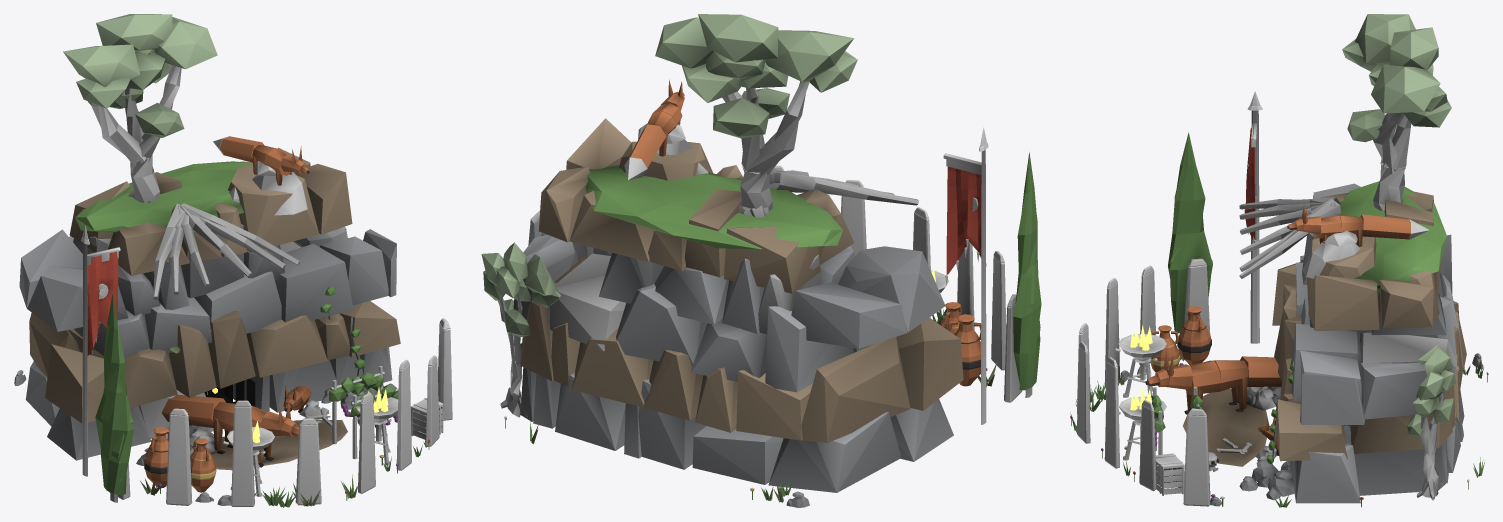
File: fox-den-l3.glb
3 views of the same model, side by side, from view 1: azimuth 30°, elevation 25°; view 2: azimuth 150°, elevation 25°; view 3: azimuth 270°, elevation 25° (orthographic). The views are drawn at different scales.
Parts seen in each view (by area): view 1: fox-den-l3; view 2: fox-den-l3; view 3: fox-den-l3.
Boxes of the visible parts, bbox=[...] form: fox-den-l3: bbox=[14, 14, 452, 507]; fox-den-l3: bbox=[481, 14, 1041, 507]; fox-den-l3: bbox=[1070, 14, 1488, 507].
Bounding box in the file's own units: 1.49 × 1.52 × 1.52.
